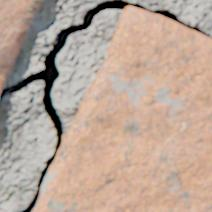brick: (34, 6, 211, 211), (0, 0, 43, 94)
crack: (0, 0, 211, 211)
